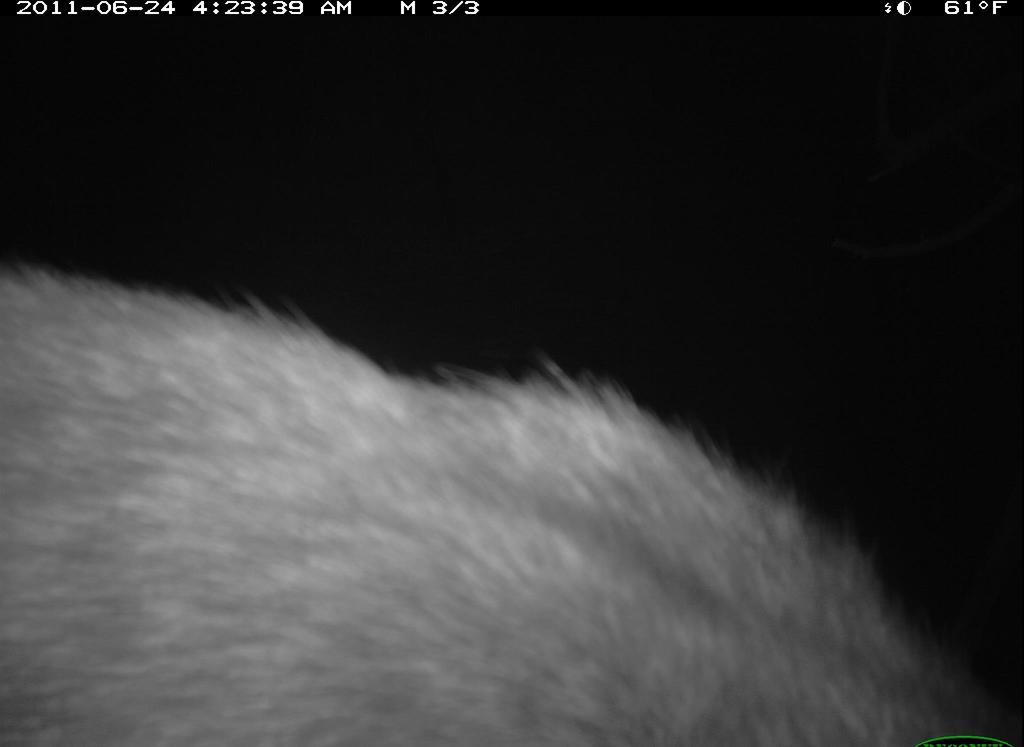raccoon: (1, 246, 1023, 747)
